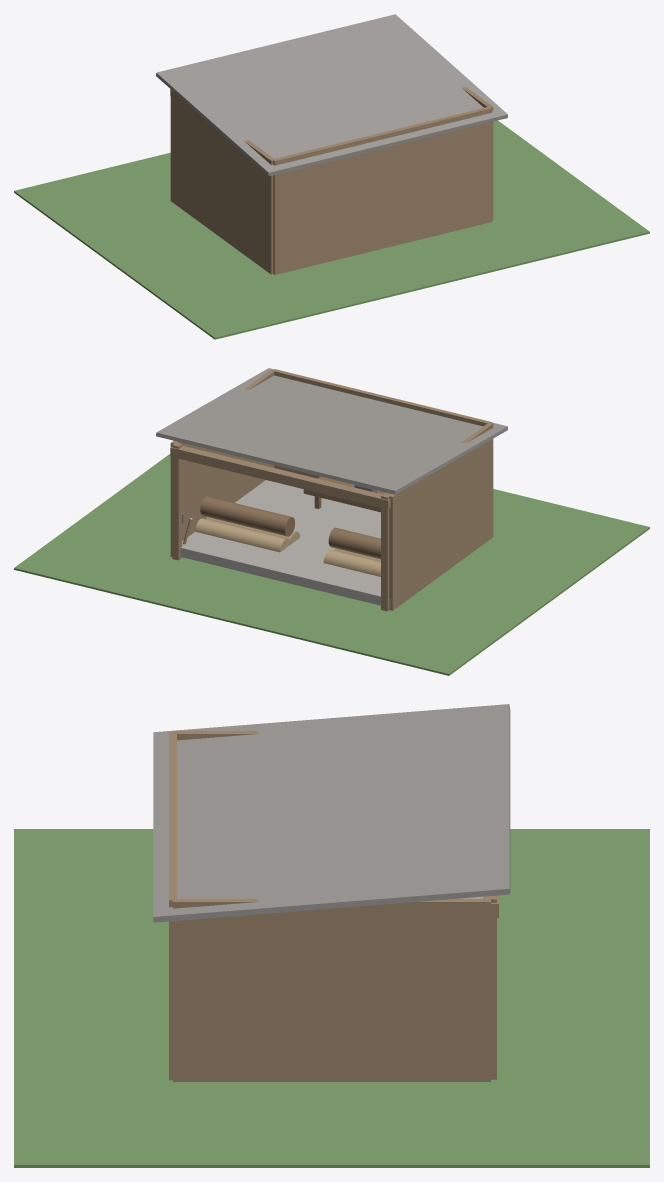
The model's file is logging_camp_shed.glb.
3 renders of one model, top to bottom at view 1: azimuth 30°, elevation 25°; view 2: azimuth 150°, elevation 25°; view 3: azimuth 270°, elevation 25°, orthographic. The views are drawn at different scales.
Parts seen in each view (by area): view 1: ground, roof, back_wall, left_wall; view 2: ground, roof, left_wall, foundation, right_wall, lintel, log_p2_2, back_wall, log_p2_1, post_fr, log_p1_2, post_fl (+2 smaller); view 3: ground, roof, right_wall, back_wall, post_fr.
Part boxes in pixels (x1,y1,x2,y2): ground: (14,120,649,339); roof: (156,14,507,176); back_wall: (272,106,492,274); left_wall: (170,89,273,274); ground: (14,454,649,675); roof: (156,368,507,494); left_wall: (389,422,493,610); foundation: (180,480,390,607); right_wall: (170,369,274,556); lintel: (170,445,390,509); log_p2_2: (200,496,294,536); back_wall: (272,369,492,478); log_p2_1: (195,518,289,552); post_fr: (172,442,182,560); log_p1_2: (328,527,380,559); post_fl: (381,493,389,611); ground: (14,829,649,1167); roof: (153,704,510,922); right_wall: (173,898,490,1081); back_wall: (169,732,176,1080); post_fr: (485,895,496,1079).
Bounding box in the file's own units: 10 × 2.83 × 8.
